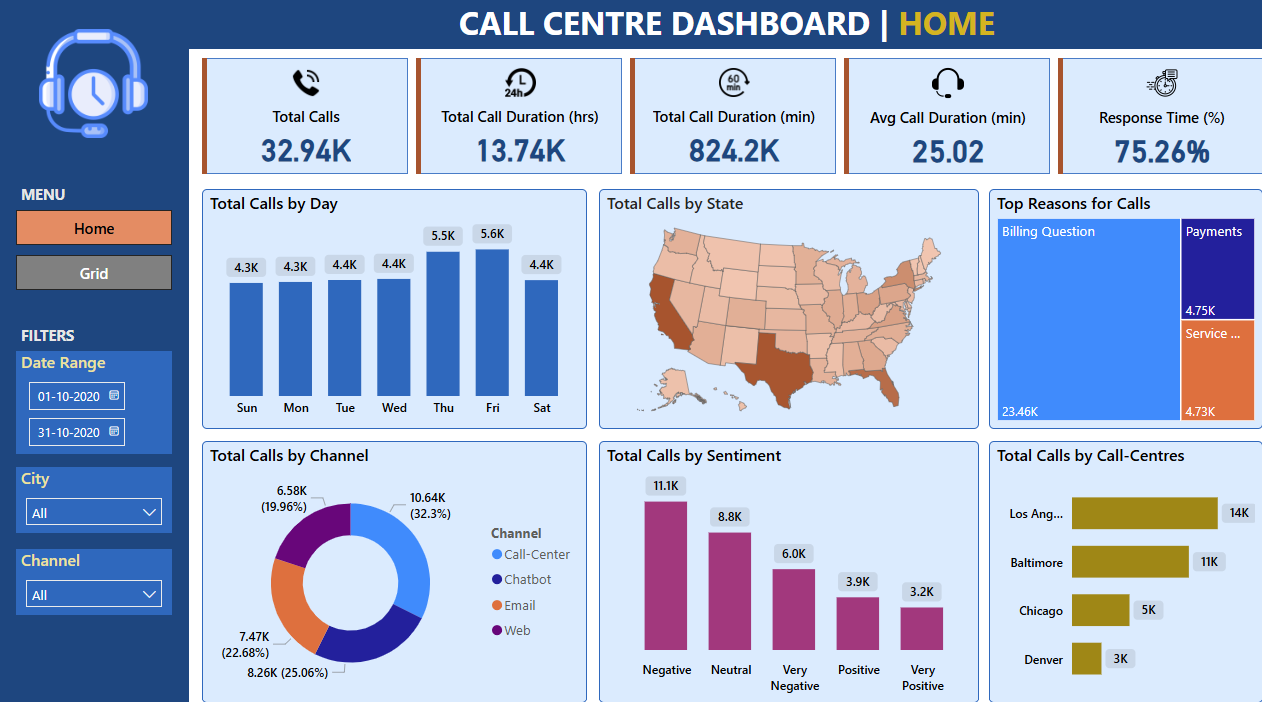

Layout of this report page (visuals, bound fields, positions):
{"tool":"powerbi","page":{"name":"Home","canvas":[1280,720],"ordinal":0},"visuals":[{"type":"shape","box":[9,8,1264,50],"z":0},{"type":"shape","box":[9,58,190,655],"z":1000},{"type":"cardVisual","fields":{"Data":["Call_Center.Total Calls","Call_Center.Total Call Duration (hrs)","Call_Center.Total Call Duration (min)","Call_Center.Avg Call Duration (min)","Call_Center.Response Time (%)"]},"box":[207,62,1072,126],"z":2000},{"type":"textbox","box":[464,4,557,58],"z":3000},{"type":"columnChart","fields":{"Category":["Date Table.Day"],"Y":["Call_Centre.Total Calls"]},"box":[212,198,385,240],"z":4000},{"type":"shapeMap","fields":{"Category":["Call_Centre.State"],"Value":["Call_Centre.Total Calls"]},"box":[609,198,380,240],"z":5000},{"type":"treemap","title":"Top Reasons for Calls","fields":{"Group":["Call_Centre.Reason"],"Values":["Call_Centre.Total Calls"]},"box":[999,198,274,240],"z":6000},{"type":"donutChart","fields":{"Category":["Call_Centre.Channel"],"Y":["Call_Centre.Total Calls"]},"box":[212,450,385,263],"z":7000},{"type":"columnChart","fields":{"Category":["Call_Centre.Sentiment"],"Y":["Call_Centre.Total Calls"]},"box":[609,450,380,263],"z":8000},{"type":"barChart","fields":{"Category":["Call_Centre.Call_Centres_City"],"Y":["Call_Centre.Total Calls"]},"box":[999,450,274,263],"z":9000},{"type":"slicer","title":"Date Range","fields":{"Values":["Date Table.Date"]},"box":[26,360,156,103],"z":10000},{"type":"slicer","title":"City","fields":{"Values":["Call_Centre.City"]},"box":[26,476,156,66],"z":11000},{"type":"slicer","title":"Channel","fields":{"Values":["Call_Centre.Channel"]},"box":[26,558,156,66],"z":12000},{"type":"image","box":[44,33,119,119],"z":13000},{"type":"pageNavigator","box":[26,219,156,81],"z":14000},{"type":"textbox","box":[26,188,66,31],"z":15000},{"type":"textbox","box":[26,329,78,31],"z":16000}]}

Visuals, with their boxes in screenshot pixels (x1, y1, x2, y2), scaled from the page's 1280x720 canvas onto the 1262x702 screenshot:
shape: bbox(9, 8, 1255, 57)
shape: bbox(9, 57, 196, 695)
cardVisual - Call_Center.Total Calls x Call_Center.Total Call Duration (hrs): bbox(204, 60, 1261, 183)
textbox: bbox(457, 4, 1007, 60)
columnChart - Date Table.Day x Call_Centre.Total Calls: bbox(209, 193, 589, 427)
shapeMap - Call_Centre.State x Call_Centre.Total Calls: bbox(600, 193, 975, 427)
"Top Reasons for Calls" treemap: bbox(985, 193, 1255, 427)
donutChart - Call_Centre.Channel x Call_Centre.Total Calls: bbox(209, 439, 589, 695)
columnChart - Call_Centre.Sentiment x Call_Centre.Total Calls: bbox(600, 439, 975, 695)
barChart - Call_Centre.Call_Centres_City x Call_Centre.Total Calls: bbox(985, 439, 1255, 695)
"Date Range" slicer: bbox(26, 351, 179, 451)
"City" slicer: bbox(26, 464, 179, 528)
"Channel" slicer: bbox(26, 544, 179, 608)
image: bbox(43, 32, 161, 148)
pageNavigator: bbox(26, 214, 179, 292)
textbox: bbox(26, 183, 91, 214)
textbox: bbox(26, 321, 103, 351)
